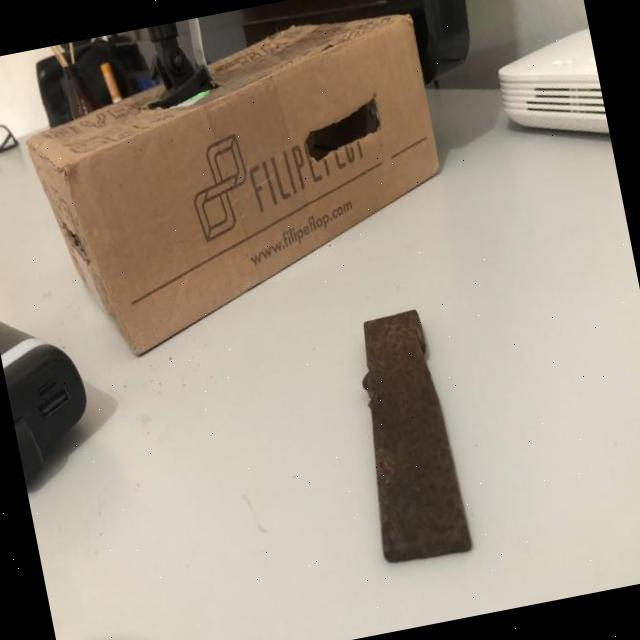Corrosion: (337, 306, 474, 568)
